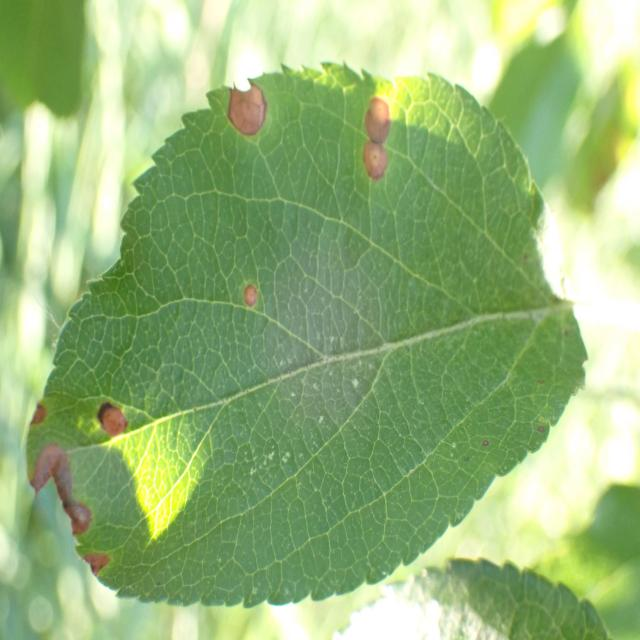Black Rot: (6, 435, 98, 550), (213, 45, 274, 158), (347, 83, 405, 187), (94, 395, 156, 472), (227, 282, 274, 338), (31, 374, 57, 443), (73, 549, 119, 587)
